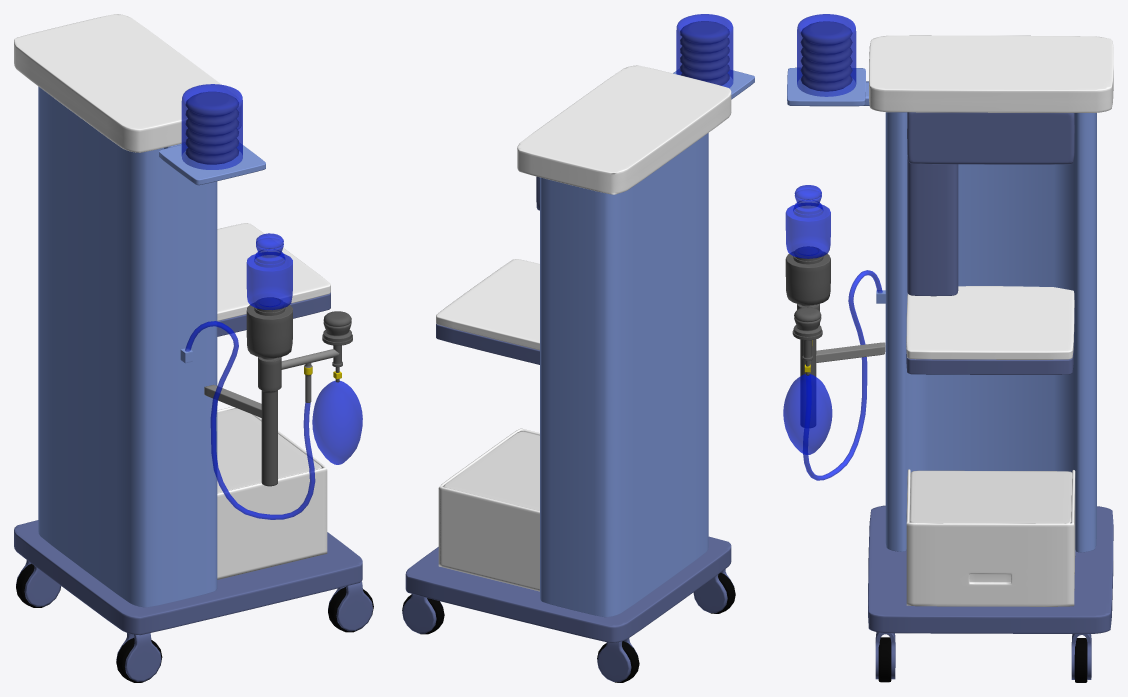
The model's file is Maquina de Anestesia Material.glb.
3 views of the same model, side by side, from view 1: azimuth 30°, elevation 25°; view 2: azimuth 150°, elevation 25°; view 3: azimuth 270°, elevation 25° (orthographic). The views are drawn at different scales.
Visible parts, largest first — view 1: OT_Anesthesia_Machine.008, OT_Anesthesia_Machine.001, OT_Anesthesia_Machine.015, OT_Anesthesia_Machine.006, OT_Anesthesia_Machine.003, OT_Anesthesia_Machine.029, OT_Anesthesia_Machine.011, OT_Anesthesia_Machine.007, OT_Anesthesia_Machine.017, OT_Anesthesia_Machine.031, OT_Anesthesia_Machine.014, OT_Anesthesia_Machine.010 (+6 smaller); view 2: OT_Anesthesia_Machine.008, OT_Anesthesia_Machine.001, OT_Anesthesia_Machine.015, OT_Anesthesia_Machine.006, OT_Anesthesia_Machine.003, OT_Anesthesia_Machine.007, OT_Anesthesia_Machine.029, OT_Anesthesia_Machine.017, OT_Anesthesia_Machine.031, OT_Anesthesia_Machine.004, OT_Anesthesia_Machine.020, OT_Anesthesia_Machine.030; view 3: OT_Anesthesia_Machine.008, OT_Anesthesia_Machine.001, OT_Anesthesia_Machine.006, OT_Anesthesia_Machine.015, OT_Anesthesia_Machine.003, OT_Anesthesia_Machine.002, OT_Anesthesia_Machine.007, OT_Anesthesia_Machine.005, OT_Anesthesia_Machine.029, OT_Anesthesia_Machine.011, OT_Anesthesia_Machine.031, OT_Anesthesia_Machine.014 (+8 smaller).
Boxes of the visible parts, box(x1,y1,x2,y2) form: OT_Anesthesia_Machine.008: box(38, 86, 217, 607); OT_Anesthesia_Machine.001: box(14, 14, 241, 152); OT_Anesthesia_Machine.015: box(14, 520, 362, 635); OT_Anesthesia_Machine.006: box(217, 406, 327, 579); OT_Anesthesia_Machine.003: box(217, 223, 330, 320); OT_Anesthesia_Machine.029: box(181, 84, 242, 169); OT_Anesthesia_Machine.011: box(246, 297, 292, 486); OT_Anesthesia_Machine.007: box(217, 408, 321, 493); OT_Anesthesia_Machine.017: box(16, 560, 372, 681); OT_Anesthesia_Machine.031: box(185, 91, 238, 164); OT_Anesthesia_Machine.014: box(312, 380, 362, 464); OT_Anesthesia_Machine.010: box(246, 233, 292, 310); OT_Anesthesia_Machine.008: box(540, 133, 708, 617); OT_Anesthesia_Machine.001: box(517, 65, 731, 194); OT_Anesthesia_Machine.015: box(405, 536, 731, 642); OT_Anesthesia_Machine.006: box(438, 428, 539, 591); OT_Anesthesia_Machine.003: box(436, 259, 539, 350); OT_Anesthesia_Machine.007: box(443, 431, 539, 510); OT_Anesthesia_Machine.029: box(676, 14, 733, 87); OT_Anesthesia_Machine.017: box(402, 569, 733, 682); OT_Anesthesia_Machine.031: box(680, 21, 729, 85); OT_Anesthesia_Machine.004: box(436, 323, 539, 364); OT_Anesthesia_Machine.020: box(402, 572, 735, 682); OT_Anesthesia_Machine.030: box(673, 69, 754, 99); OT_Anesthesia_Machine.008: box(885, 112, 1096, 552); OT_Anesthesia_Machine.001: box(869, 35, 1113, 112); OT_Anesthesia_Machine.006: box(906, 469, 1075, 606); OT_Anesthesia_Machine.015: box(868, 505, 1113, 633); OT_Anesthesia_Machine.003: box(906, 286, 1074, 359); OT_Anesthesia_Machine.002: box(907, 112, 1074, 164); OT_Anesthesia_Machine.007: box(910, 470, 1072, 523); OT_Anesthesia_Machine.005: box(907, 156, 958, 296); OT_Anesthesia_Machine.029: box(797, 14, 856, 96); OT_Anesthesia_Machine.011: box(785, 246, 830, 427); OT_Anesthesia_Machine.031: box(800, 21, 852, 91); OT_Anesthesia_Machine.014: box(783, 374, 832, 454).
Size of the model in its own units: 0.6406 by 1.45 by 0.7536.
